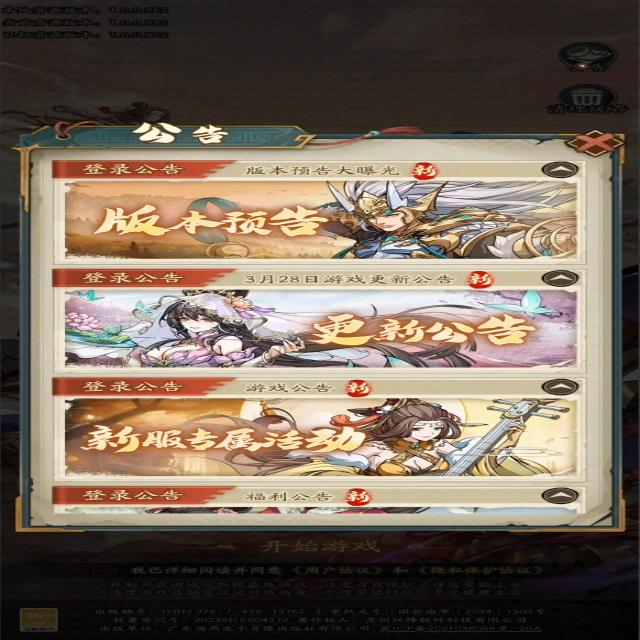operation-close: (572, 133, 619, 154)
